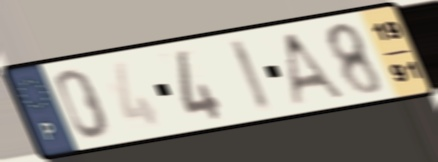0: (55, 66, 111, 143)
4: (174, 46, 224, 122), (114, 57, 162, 132)
8: (323, 20, 384, 97)
A: (282, 29, 350, 108)
I: (225, 36, 276, 116)
